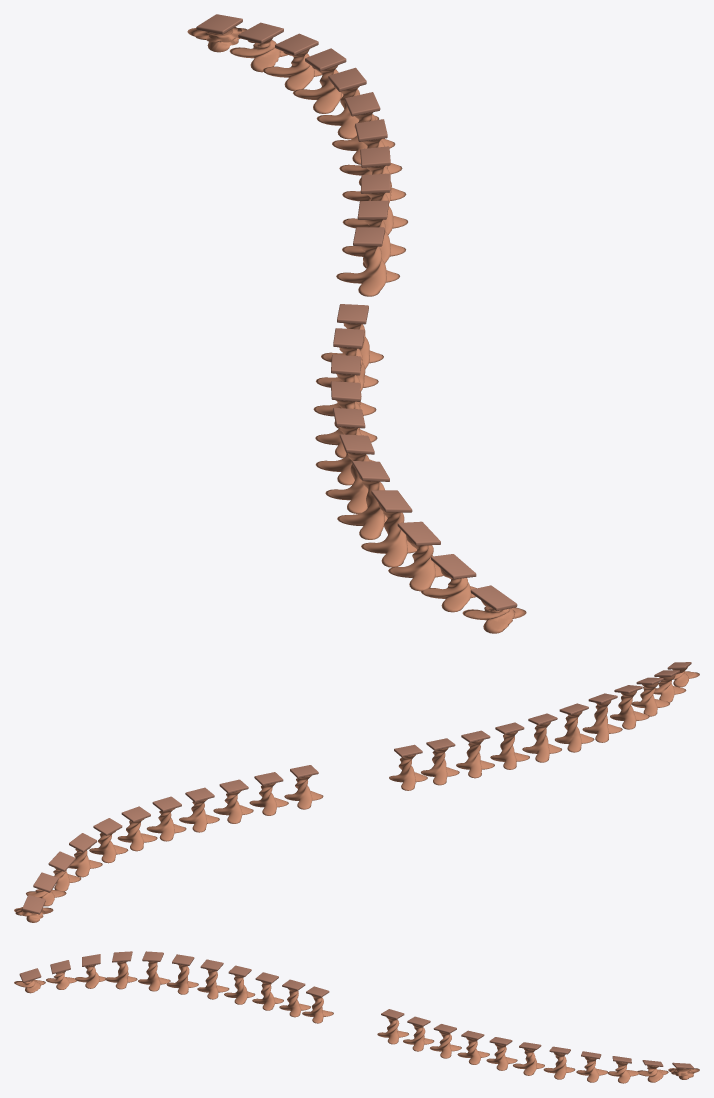
The model's file is sc02_supports_vine_fixture.glb.
3 renders of one model, top to bottom at view 1: azimuth 30°, elevation 25°; view 2: azimuth 150°, elevation 25°; view 3: azimuth 270°, elevation 25°, orthographic. The views are drawn at different scales.
Visible parts, largest first — view 1: SC02_VINE_10_shaft, SC02_VINE_18_shaft, SC02_VINE_19_shaft, SC02_VINE_17_shaft, SC02_VINE_02_shaft, SC02_VINE_03_shaft, SC02_VINE_20_shaft, SC02_VINE_16_shaft, SC02_VINE_21_shaft, SC02_VINE_01_shaft; view 2: SC02_VINE_17_shaft, SC02_VINE_16_shaft, SC02_VINE_15_shaft, SC02_VINE_18_shaft, SC02_VINE_14_shaft, SC02_VINE_13_shaft, SC02_VINE_12_shaft, SC02_VINE_11_shaft, SC02_VINE_10_shaft, SC02_VINE_07_shaft, SC02_VINE_19_shaft, SC02_VINE_08_shaft (+6 smaller); view 3: SC02_VINE_17_shaft, SC02_VINE_15_shaft, SC02_VINE_16_shaft, SC02_VINE_13_shaft, SC02_VINE_14_shaft, SC02_VINE_12_shaft, SC02_VINE_18_shaft, SC02_VINE_11_shaft, SC02_VINE_05_shaft, SC02_VINE_08_shaft, SC02_VINE_07_shaft, SC02_VINE_10_shaft (+10 smaller).
Boxes of the visible parts, x1,y1,x2,y2 form: SC02_VINE_10_shaft: [336, 246, 399, 296]; SC02_VINE_18_shaft: [361, 503, 416, 567]; SC02_VINE_19_shaft: [388, 535, 443, 591]; SC02_VINE_17_shaft: [337, 473, 387, 539]; SC02_VINE_02_shaft: [262, 49, 322, 90]; SC02_VINE_03_shaft: [293, 65, 343, 113]; SC02_VINE_20_shaft: [421, 568, 476, 612]; SC02_VINE_16_shaft: [325, 448, 369, 513]; SC02_VINE_21_shaft: [462, 600, 526, 633]; SC02_VINE_01_shaft: [229, 38, 287, 72]; SC02_VINE_17_shaft: [582, 700, 622, 742]; SC02_VINE_16_shaft: [554, 711, 594, 752]; SC02_VINE_15_shaft: [522, 722, 561, 762]; SC02_VINE_18_shaft: [610, 691, 649, 729]; SC02_VINE_14_shaft: [490, 731, 529, 769]; SC02_VINE_13_shaft: [456, 739, 494, 778]; SC02_VINE_12_shaft: [421, 747, 459, 785]; SC02_VINE_11_shaft: [389, 754, 427, 790]; SC02_VINE_10_shaft: [284, 775, 323, 809]; SC02_VINE_07_shaft: [179, 799, 219, 832]; SC02_VINE_19_shaft: [631, 682, 669, 716]; SC02_VINE_08_shaft: [213, 790, 253, 823]; SC02_VINE_17_shaft: [138, 961, 170, 991]; SC02_VINE_15_shaft: [197, 969, 229, 999]; SC02_VINE_16_shaft: [166, 964, 198, 994]; SC02_VINE_13_shaft: [252, 981, 283, 1010]; SC02_VINE_14_shaft: [224, 975, 255, 1004]; SC02_VINE_12_shaft: [279, 988, 310, 1017]; SC02_VINE_18_shaft: [105, 961, 137, 989]; SC02_VINE_11_shaft: [302, 995, 333, 1023]; SC02_VINE_05_shaft: [513, 1048, 544, 1075]; SC02_VINE_08_shaft: [430, 1031, 461, 1058]; SC02_VINE_07_shaft: [457, 1037, 489, 1064]; SC02_VINE_10_shaft: [377, 1017, 408, 1044].
Bounding box in the file's own units: 101 × 13.09 × 262.
